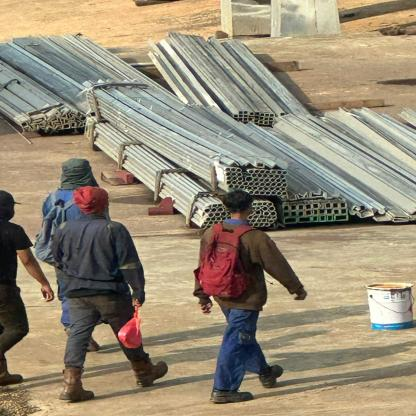bota: (52, 368, 98, 403), (123, 358, 174, 388), (204, 382, 255, 405), (258, 360, 284, 393), (0, 357, 26, 384)
